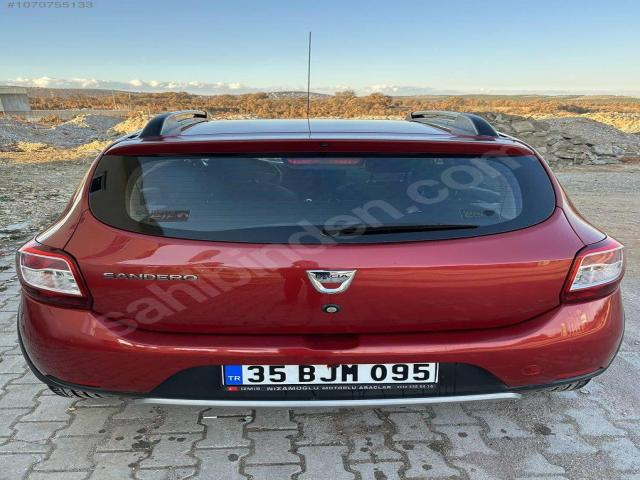plaka: (221, 362, 439, 386)
